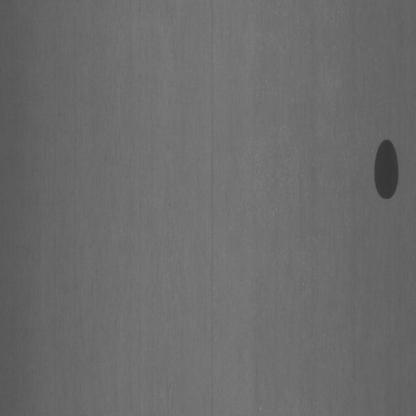oil_spot: (371, 125, 403, 218)
